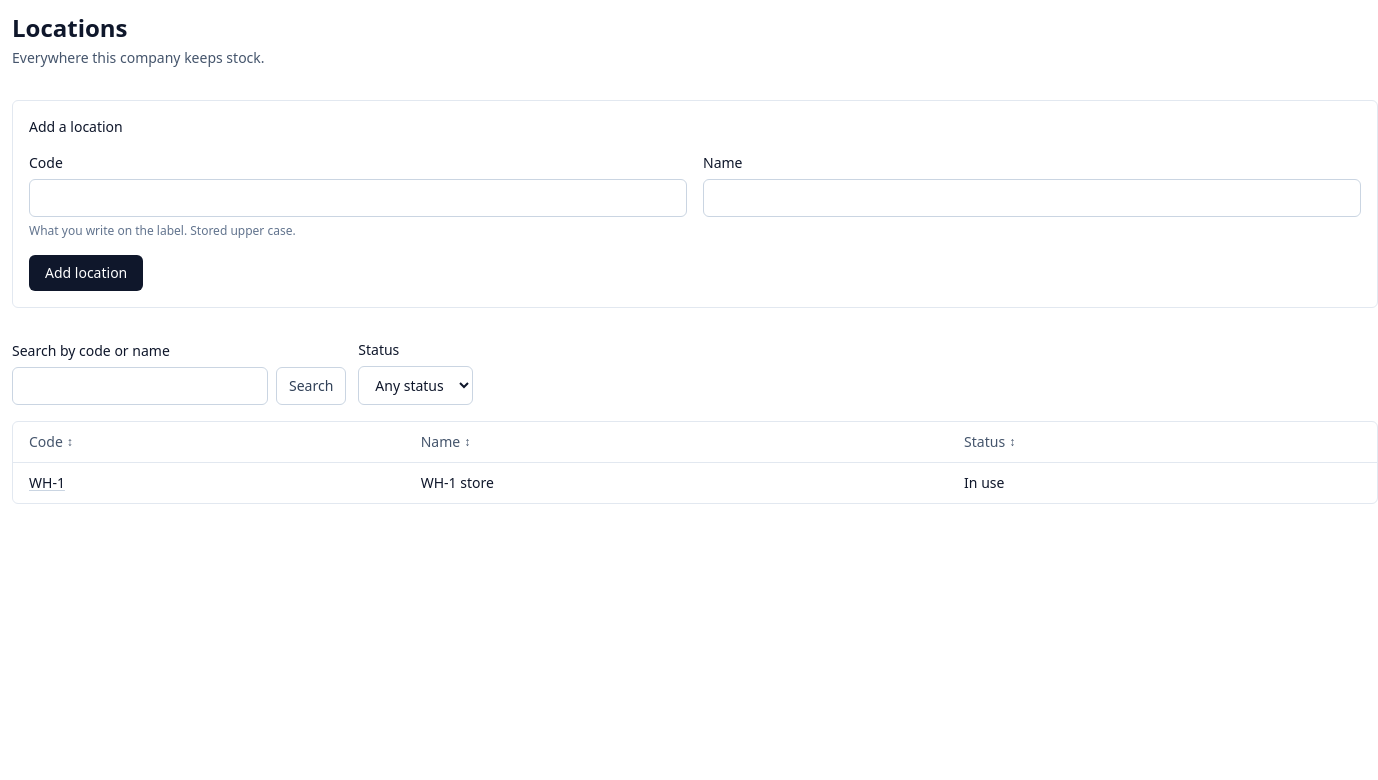
Test: LocationsPage › the panel for one location › corrects a code and a name, because nothing here can be deleted and retyped
Click the button "WH-1": [47, 483] box [29,473,65,493]
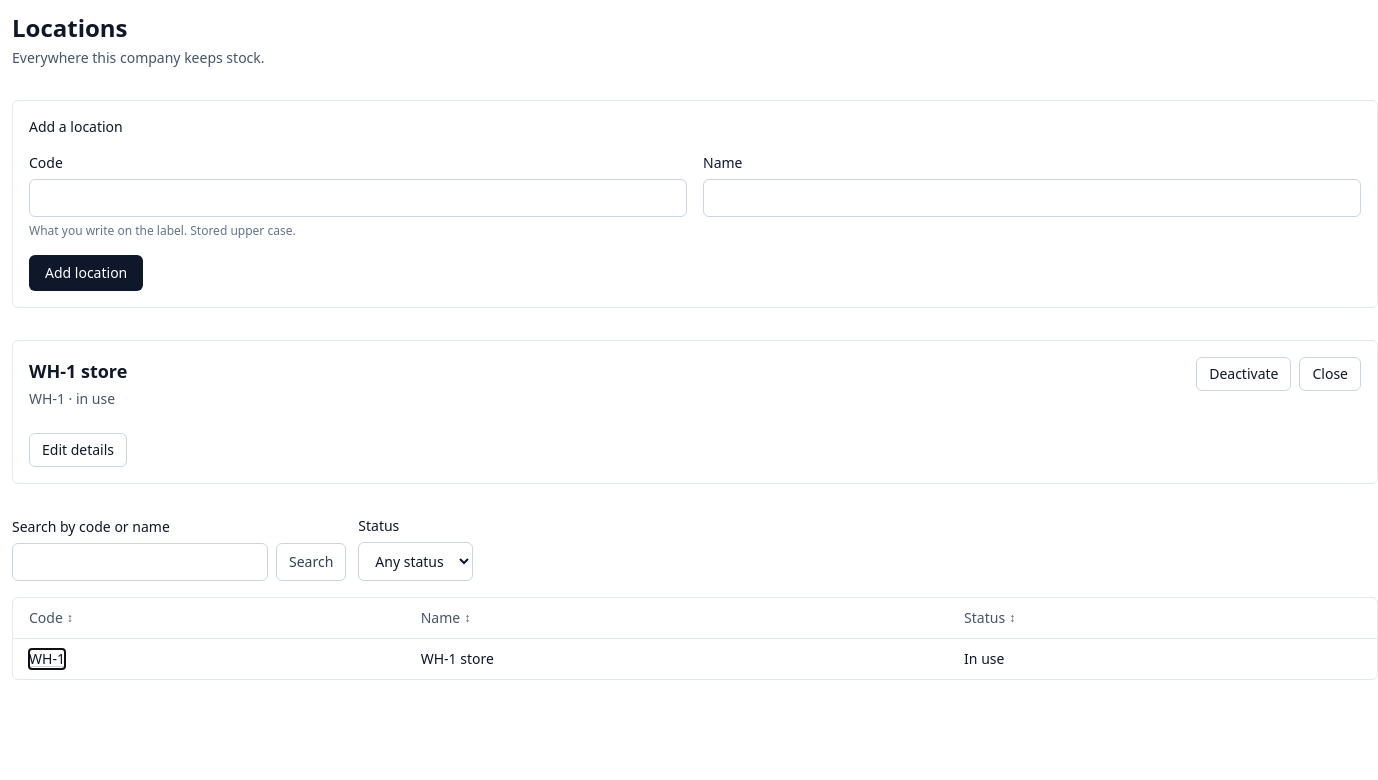
Now the heading "WH-1 store" is shown, box [29,357,127,385]
Click the button "Edit details": [78, 450] box [29,433,127,467]
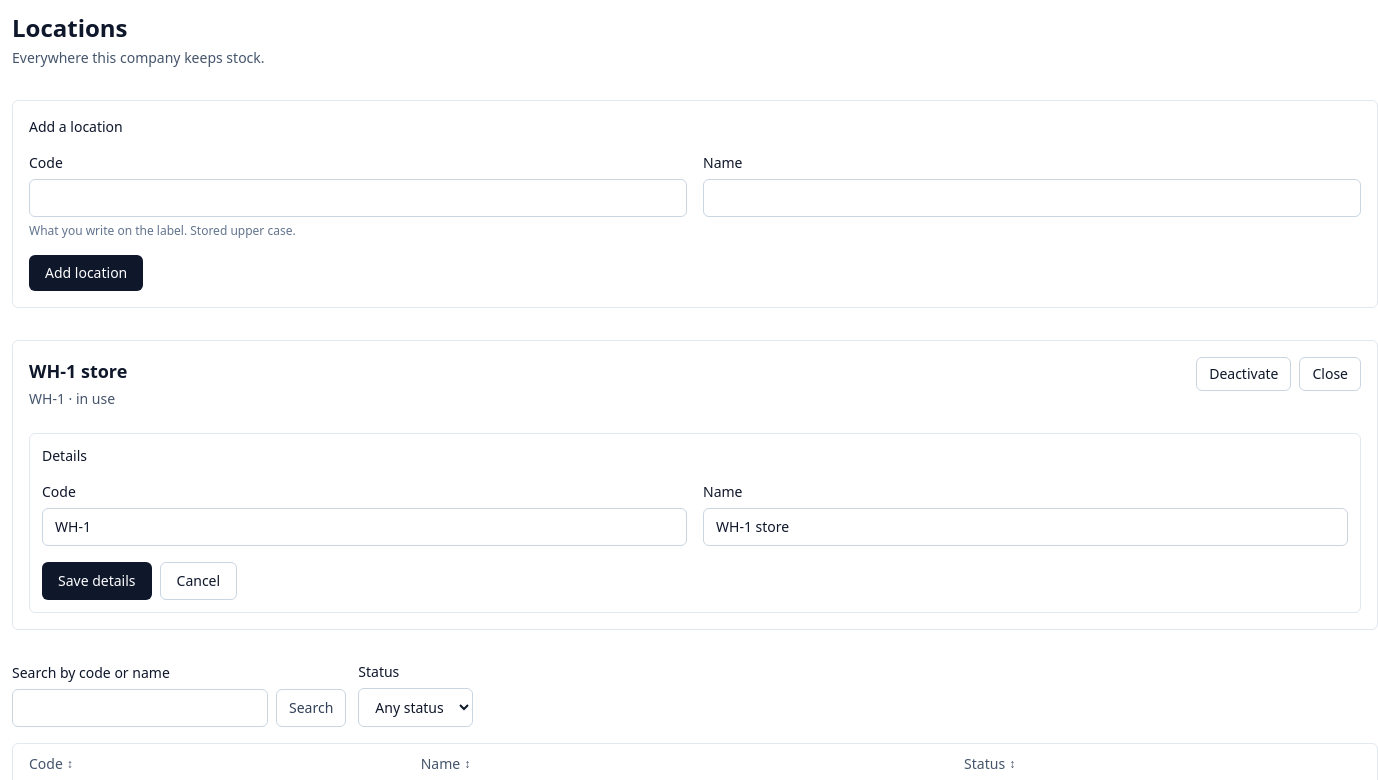
Replace the text in the 2nd field labelled "Code" with "WH-2": [364, 527] box [42,508,687,546]
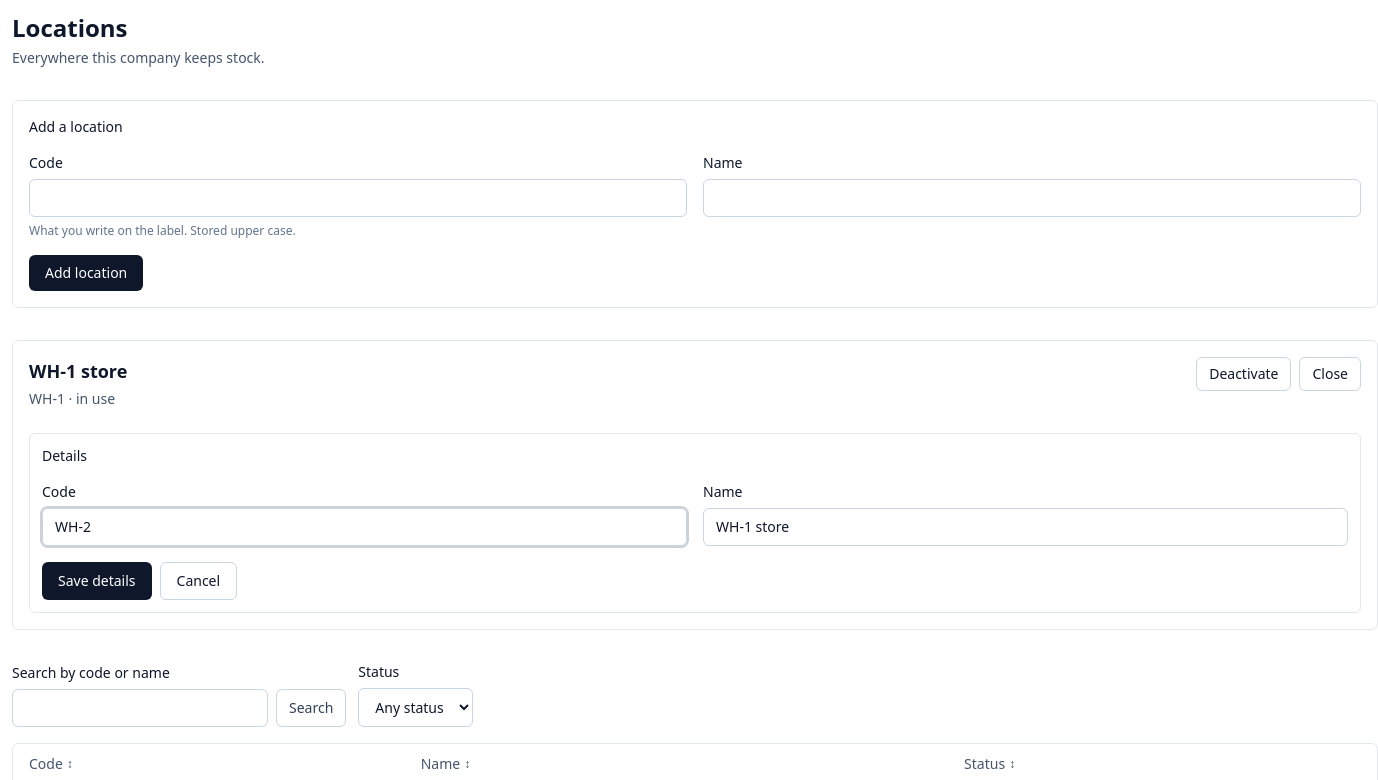
Click the button "Save details": [97, 581] box [42,562,152,600]
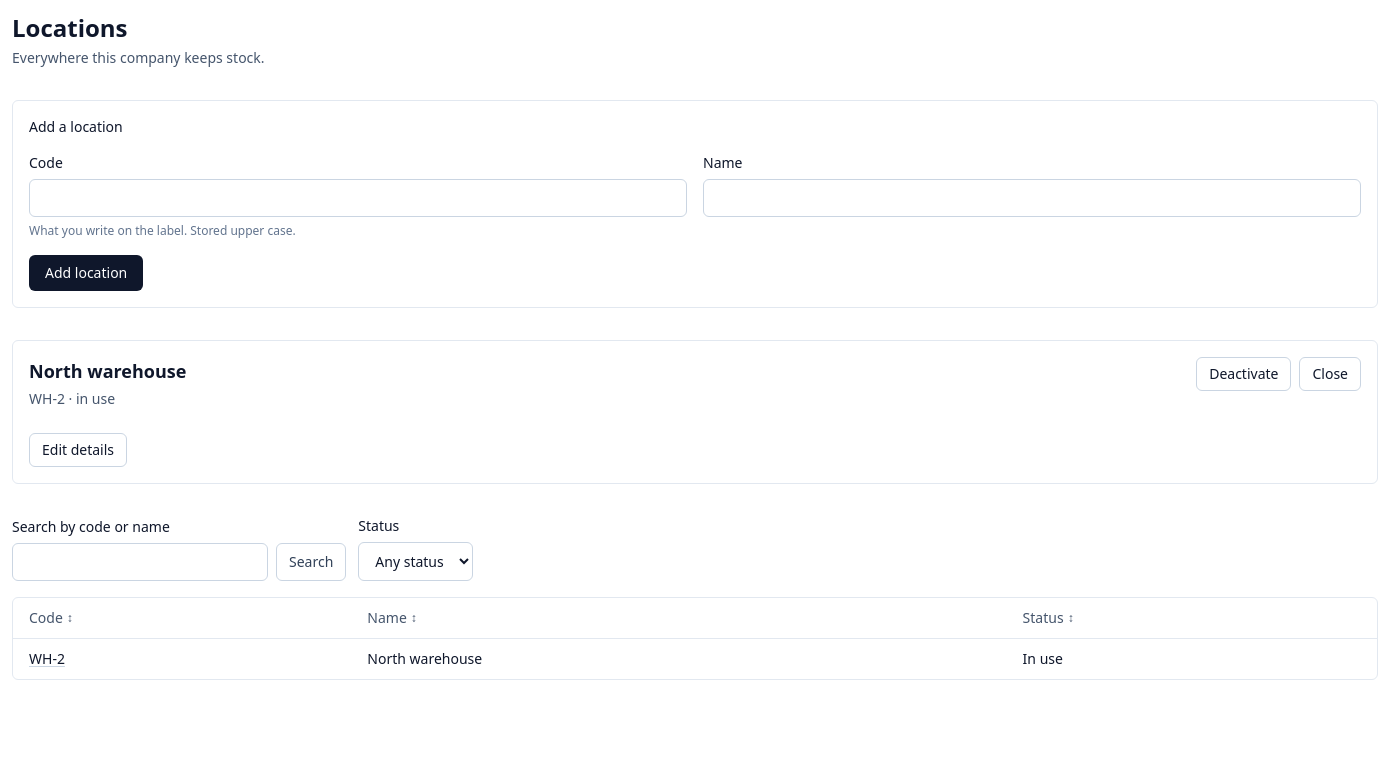
Now the heading "North warehouse" is shown, box [29,357,186,385]
